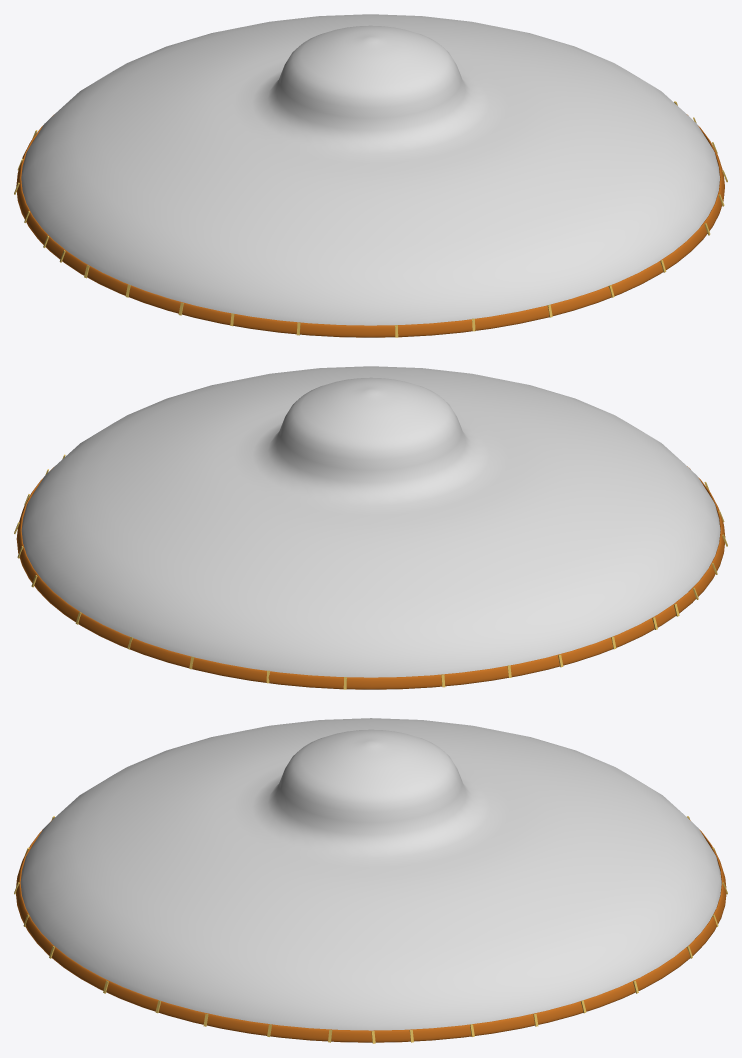
File: TOPI 1.fbx
The picture shows the model from 3 angles, top to bottom: view 1: azimuth 30°, elevation 25°; view 2: azimuth 150°, elevation 25°; view 3: azimuth 270°, elevation 25°; orthographic projection.
Parts seen in each view (by area): view 1: Circle, Circle.002, Cube; view 2: Circle, Circle.002, Cube; view 3: Circle, Circle.002, Cube.
Part boxes in pixels (x1,y1,x2,y2): Circle: (21, 14, 719, 325); Circle.002: (16, 114, 724, 337); Cube: (14, 101, 727, 337); Circle: (21, 366, 720, 677); Circle.002: (16, 466, 725, 689); Cube: (14, 454, 727, 689); Circle: (20, 718, 721, 1030); Circle.002: (16, 819, 726, 1042); Cube: (14, 816, 727, 1043).
Size of the model in its own units: 199 by 45.99 by 198.
